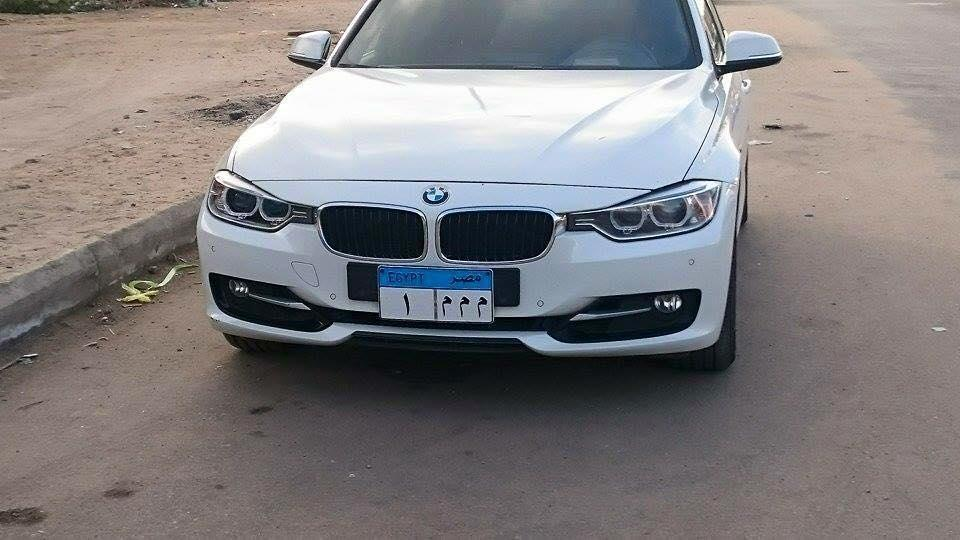1: (399, 291, 412, 318)
License Plate: (376, 263, 497, 324)
Meem: (438, 293, 453, 319), (456, 293, 471, 318), (475, 293, 489, 319)
car: (200, 0, 764, 369)
